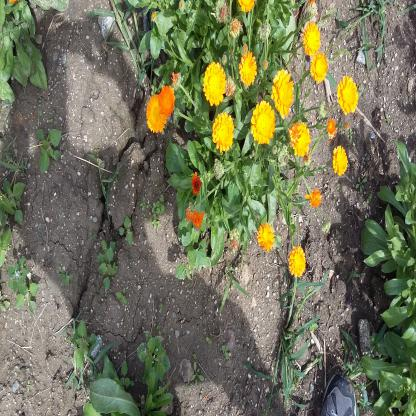marigold: (252, 100, 276, 143), (206, 60, 227, 102), (272, 72, 292, 114), (338, 74, 359, 114), (214, 112, 232, 154), (146, 95, 165, 134), (291, 123, 311, 157), (304, 21, 322, 56), (289, 248, 306, 277), (239, 53, 255, 83), (160, 85, 174, 114), (311, 56, 326, 82), (259, 223, 272, 251), (333, 148, 346, 174)
